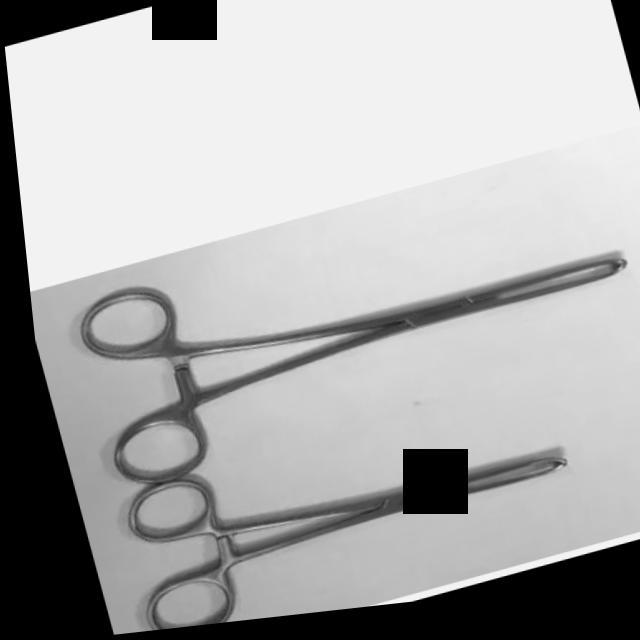Allis Forceps: (50, 166, 640, 504), (94, 390, 584, 634)
